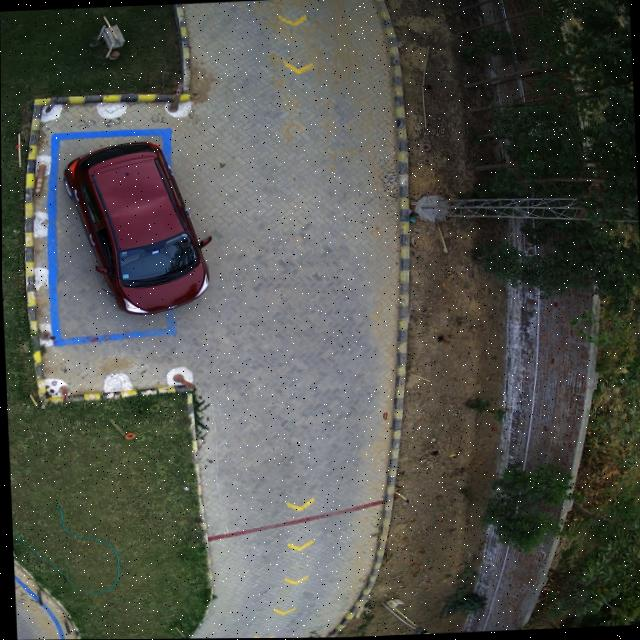car: (64, 140, 210, 317)
